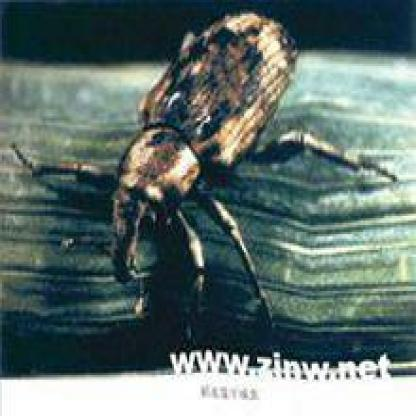rice-bug: (95, 9, 322, 315)
